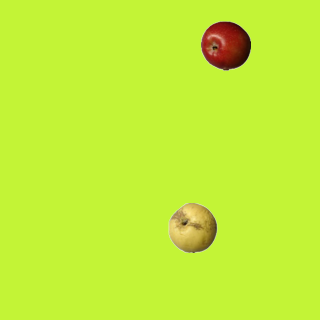Apple Braeburn: (200, 20, 250, 70)
Apple Golden 1: (167, 202, 217, 252)
